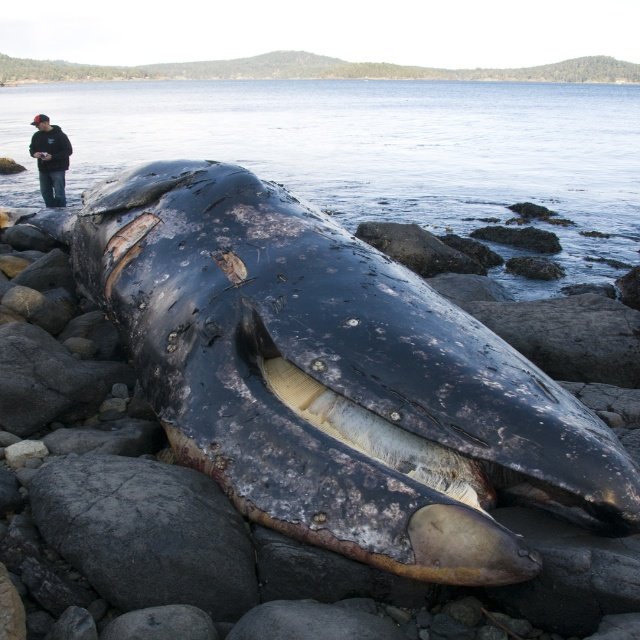Whale: (0, 159, 639, 586)
